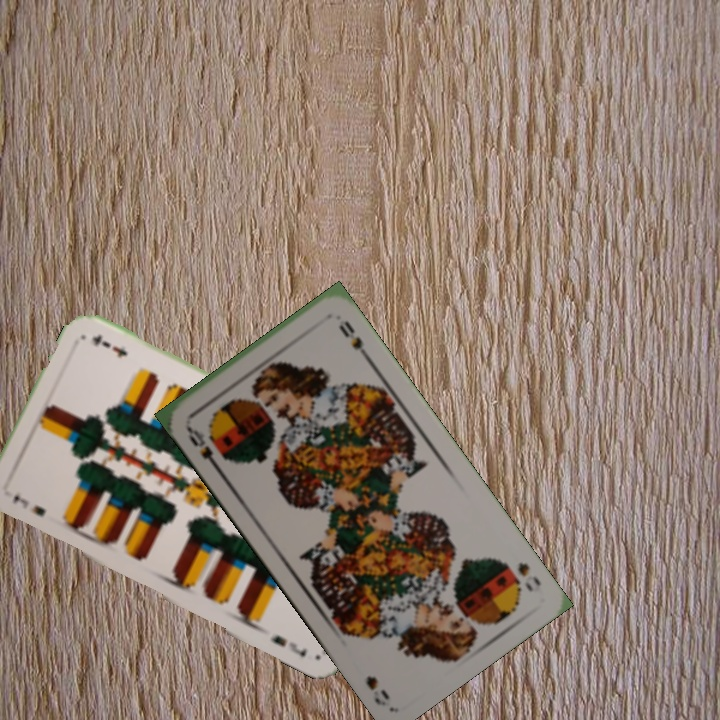E7: (9, 491, 49, 519)
SO: (181, 422, 222, 472), (513, 558, 544, 595)
